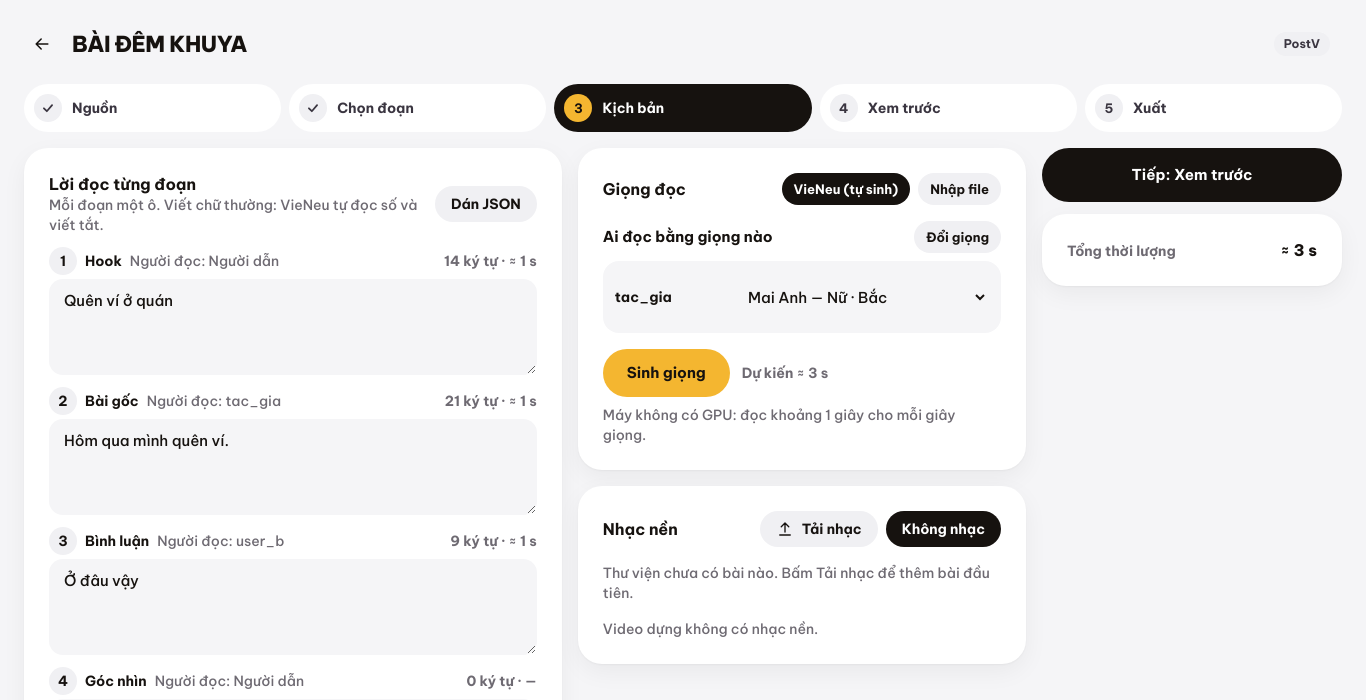
Test: Thẻ Giọng › goes back to automatic and shuffles with a new seed
Select "Tự động · Mai Anh — Nữ · Bắc" in the dropdown named "Giọng của tac_gia": {"x": 859, "y": 297} [729, 273, 989, 321]
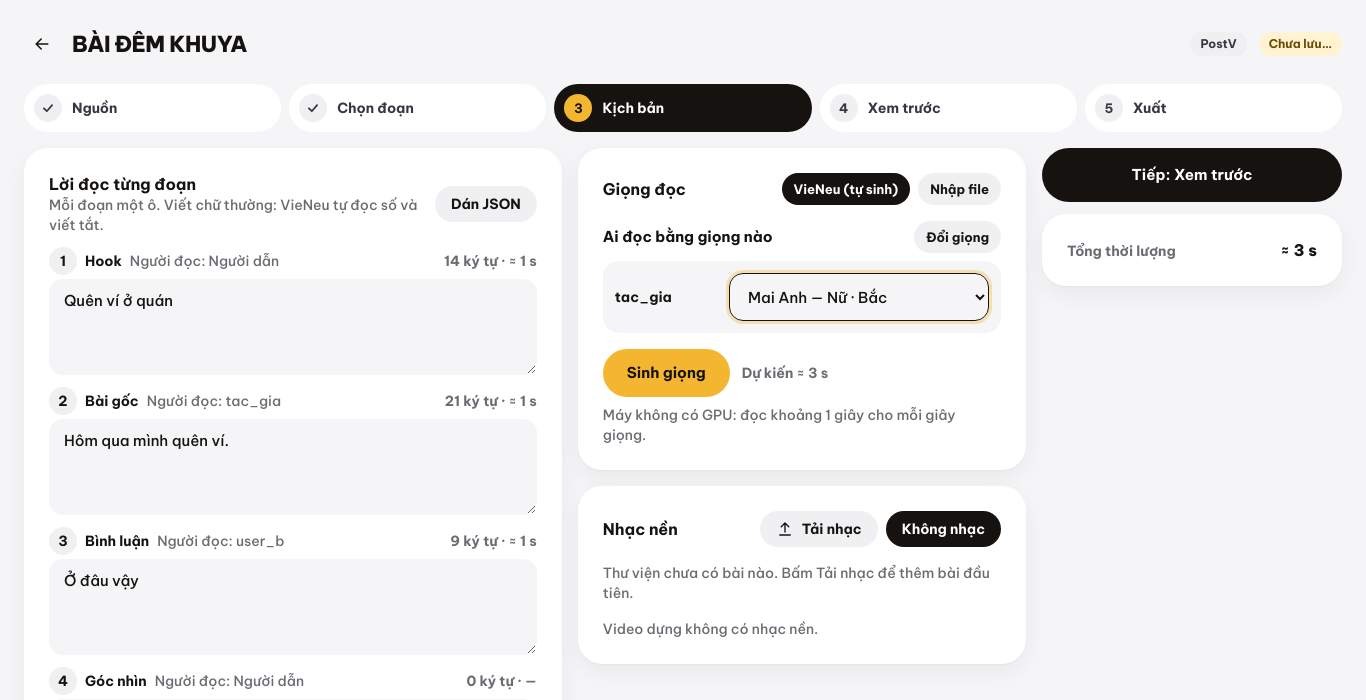
Click the button "Đổi giọng": {"x": 958, "y": 237} [914, 221, 1001, 253]
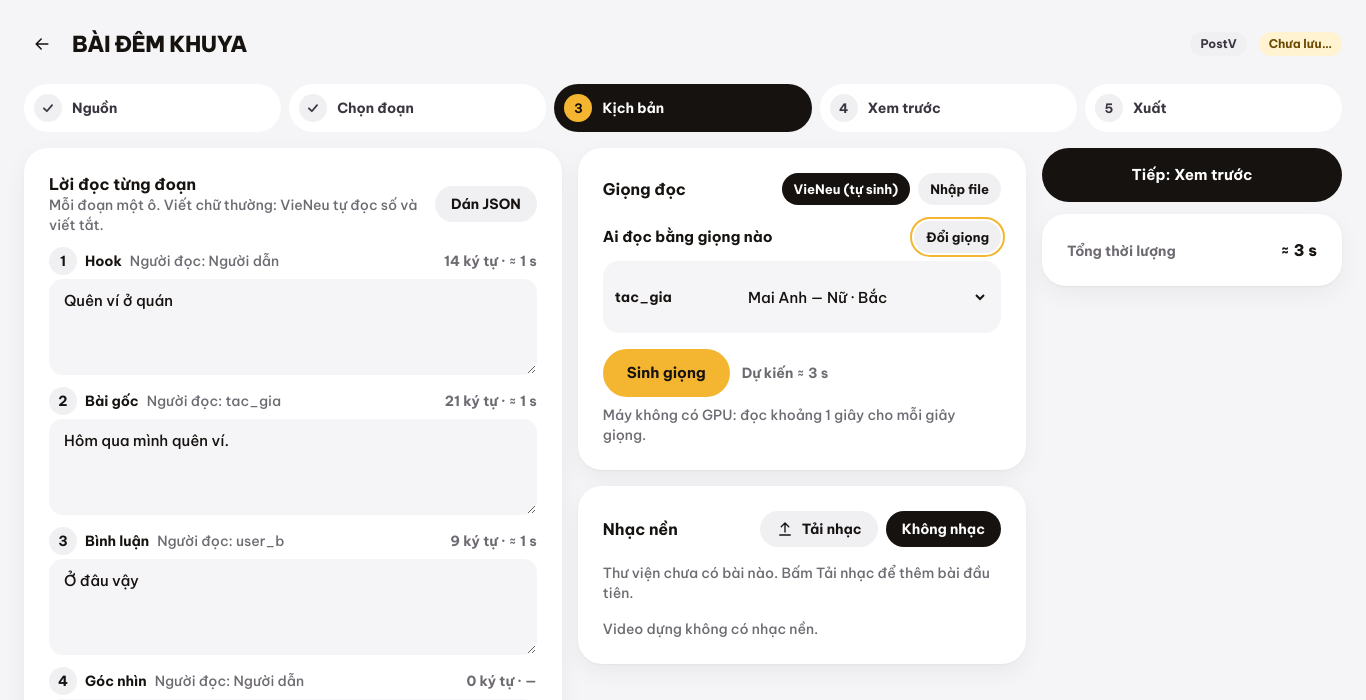
Click the button "Tiếp: Xem trước": {"x": 1192, "y": 175} [1042, 148, 1342, 202]
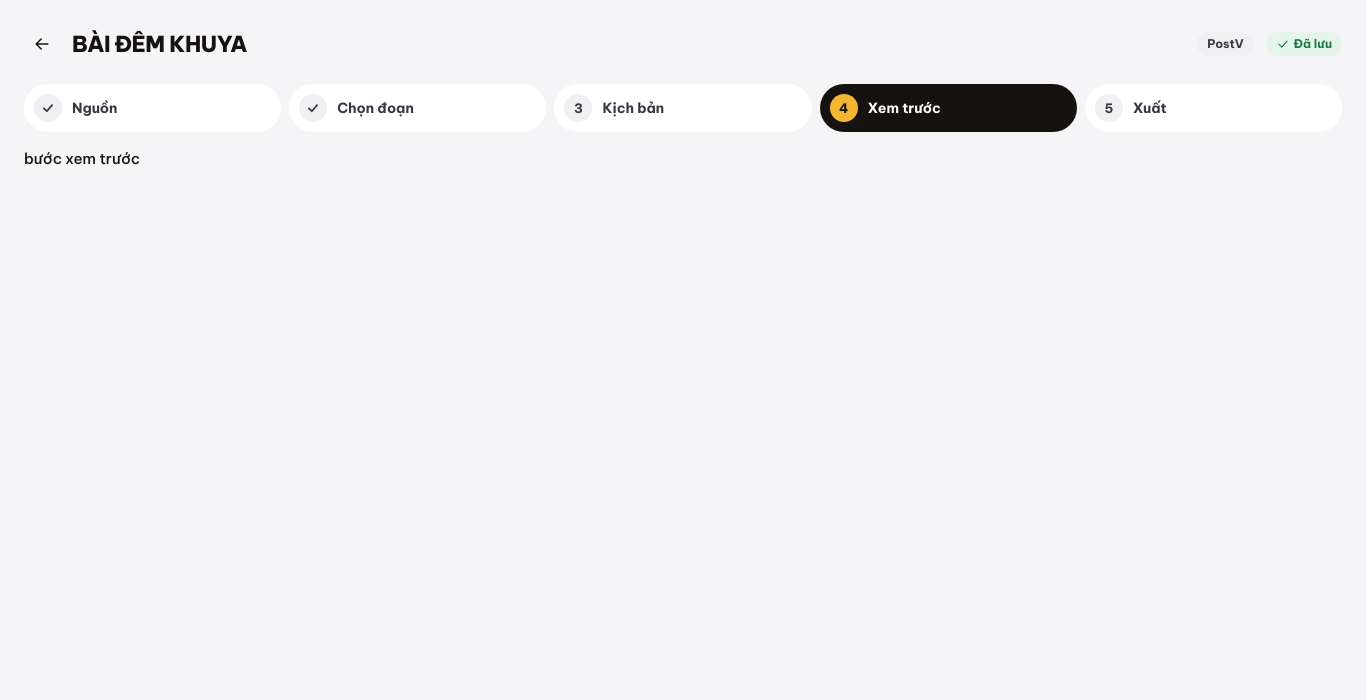
Now the text "bước xem trước" is shown, box [24, 149, 140, 168]
